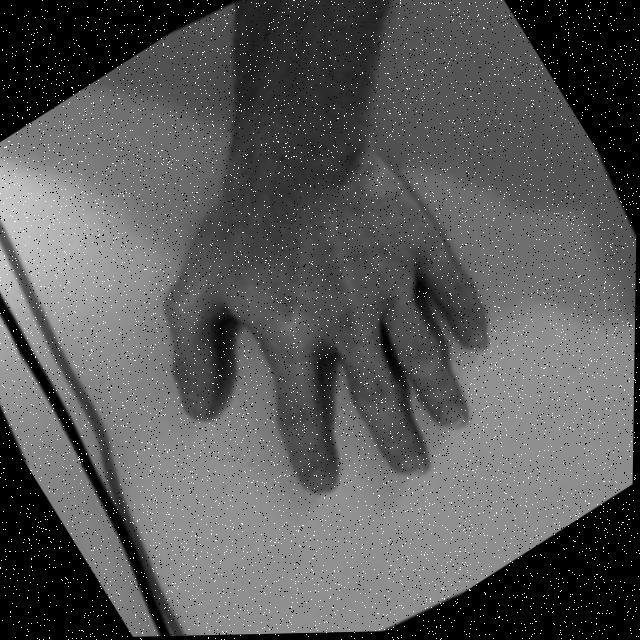no-gloves: (104, 116, 554, 574)
